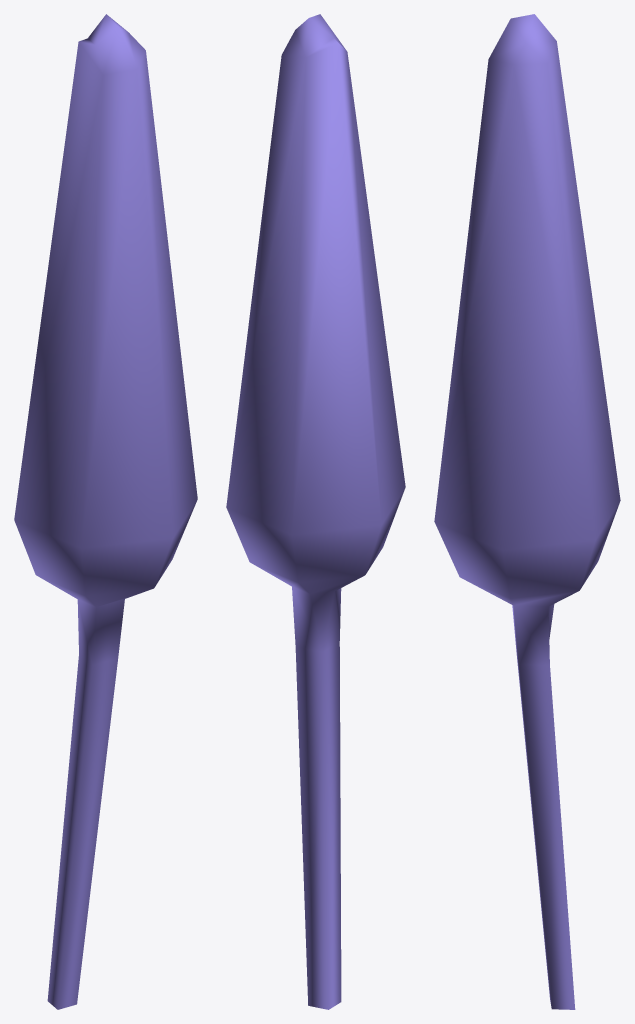
The model's file is roselle6.fbx.
3 views of the same model, side by side, from view 1: azimuth 30°, elevation 25°; view 2: azimuth 150°, elevation 25°; view 3: azimuth 270°, elevation 25° (orthographic). The views are drawn at different scales.
Visible parts, largest first — view 1: roselle6; view 2: roselle6; view 3: roselle6.
Boxes of the visible parts, x1,y1,x2,y2 form: roselle6: (14, 14, 197, 1009); roselle6: (226, 14, 405, 1009); roselle6: (434, 14, 620, 1009).
Size of the model in its own units: 13.7 by 81.6 by 13.7.
